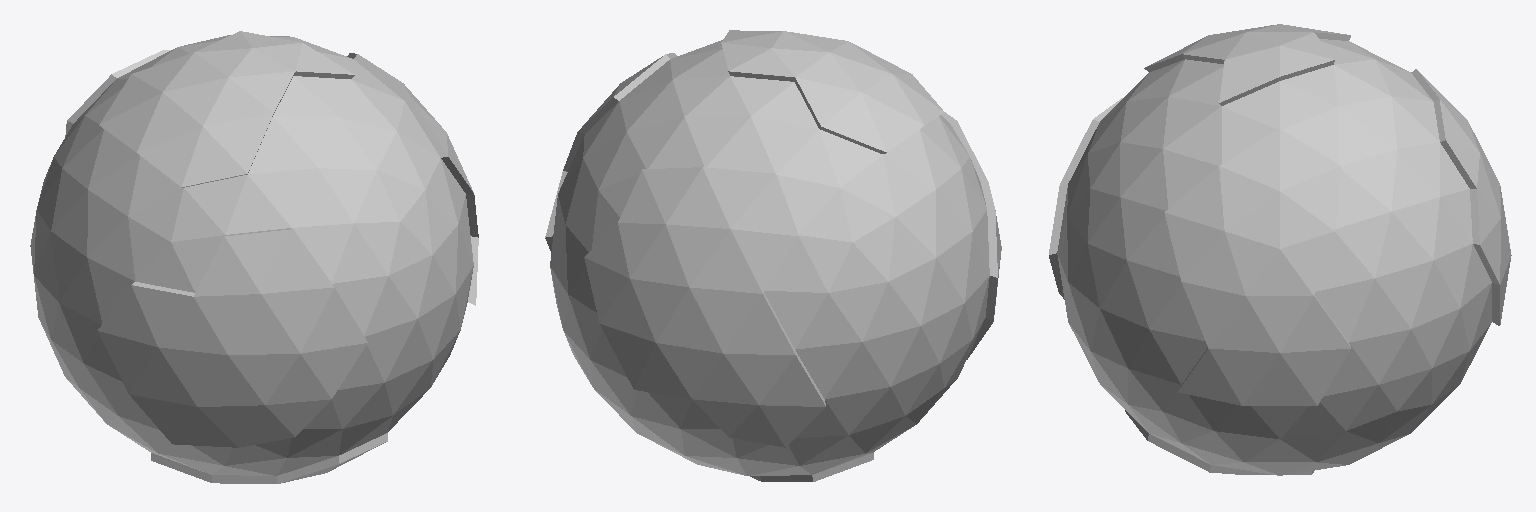
3 views of the same model, side by side, from view 1: azimuth 30°, elevation 25°; view 2: azimuth 150°, elevation 25°; view 3: azimuth 270°, elevation 25° (orthographic).
Parts seen in each view (by area): view 1: BG1_a_Icosphere; view 2: BG1_a_Icosphere; view 3: BG1_a_Icosphere.
Part boxes in pixels (x1,y1,x2,y2): BG1_a_Icosphere: (30, 31, 478, 483); BG1_a_Icosphere: (545, 30, 1001, 481); BG1_a_Icosphere: (1049, 24, 1511, 475).
Size of the model in its own units: 7.05 by 7.14 by 7.18.